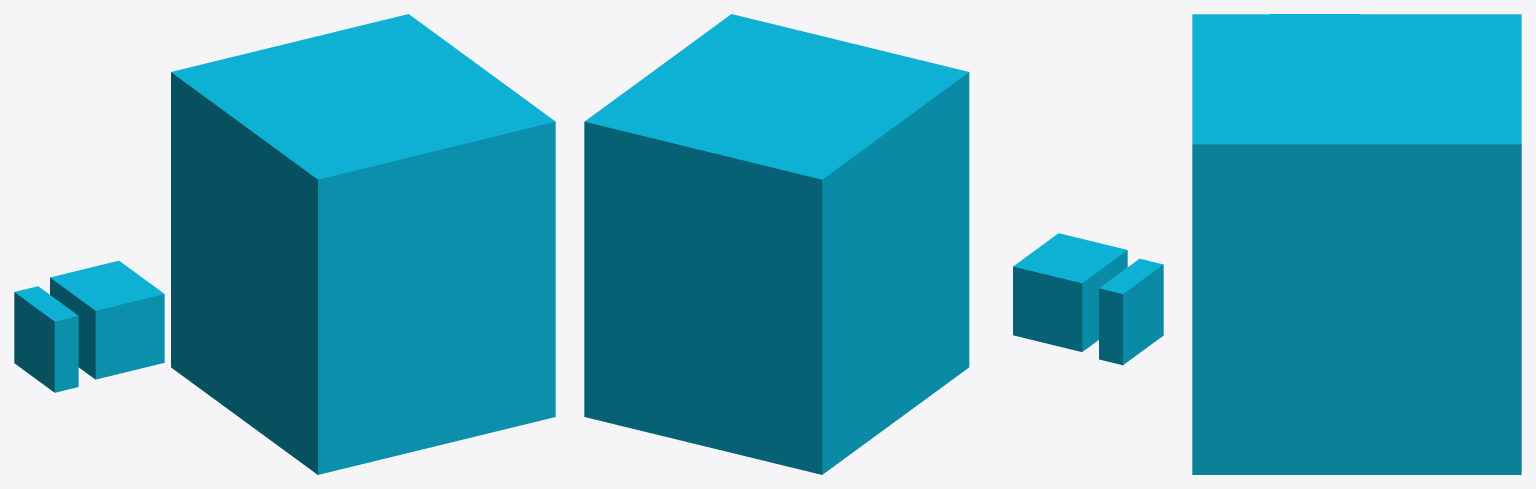
The model's file is m1_bizarro-collision.glb.
The picture shows the model from 3 angles, left to right: view 1: azimuth 30°, elevation 25°; view 2: azimuth 150°, elevation 25°; view 3: azimuth 270°, elevation 25°; orthographic projection. The views are drawn at different scales.
Parts seen in each view (by area): view 1: Collider_wing_starboard, Collider_body, Collider_wing_port; view 2: Collider_wing_starboard, Collider_body, Collider_wing_port; view 3: Collider_wing_starboard.
Boxes of the visible parts, x1,y1,x2,y2 form: Collider_wing_starboard: (171,14,555,474); Collider_body: (50,260,164,379); Collider_wing_port: (14,286,78,392); Collider_wing_starboard: (584,14,969,474); Collider_body: (1013,233,1127,351); Collider_wing_port: (1099,258,1163,365); Collider_wing_starboard: (1192,14,1521,474).
Bounding box in the file's own units: 5.77 × 3.49 × 3.15.
